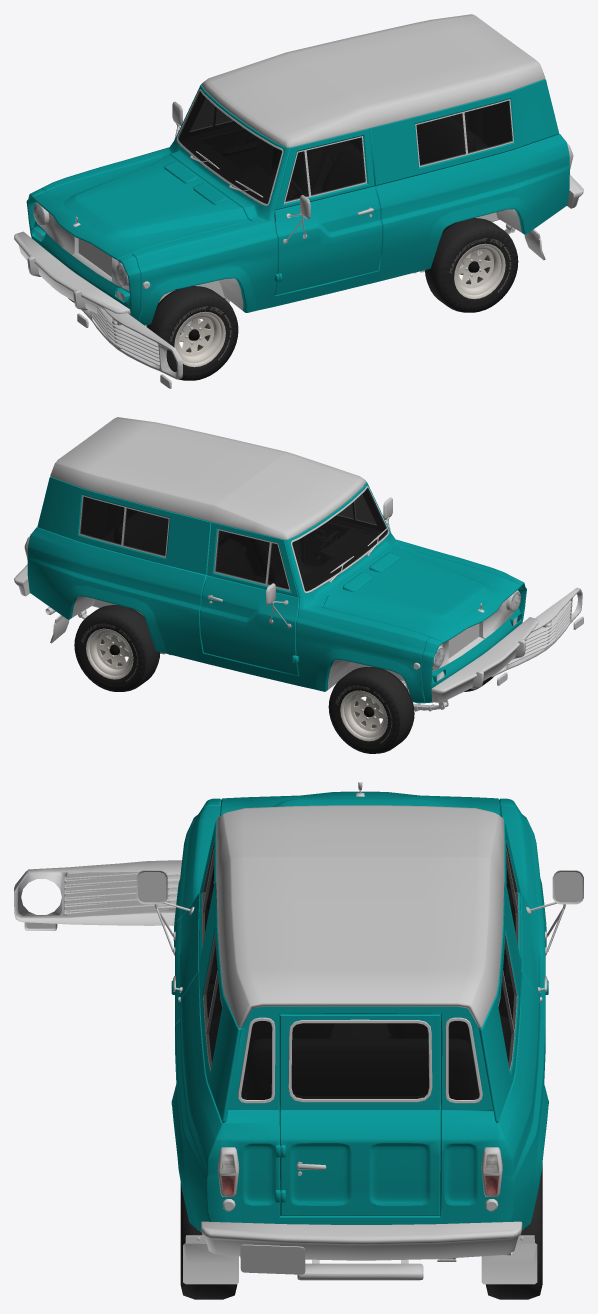
The model's file is SUV4.fbx.
The picture shows the model from 3 angles, top to bottom: view 1: azimuth 30°, elevation 25°; view 2: azimuth 150°, elevation 25°; view 3: azimuth 270°, elevation 25°; orthographic projection. The views are drawn at different scales.
Parts seen in each view (by area): view 1: Body, Roof, Hood, Door_Left, Wheel_RL, Wheel_FL, Windshield, Seats, Bodyglass, Door_Glass_FL, Grill, Bumper_Front (+12 smaller); view 2: Body, Roof, Hood, Door_Right, Wheel_FR, Wheel_RR, Windshield, Seats, Bodyglass, Door_Glass_FR, Bumper_Front, Plate_Front (+11 smaller); view 3: Roof, Body, rear_door, Seats, Bumper_rear, rear_door_glass, Grill, Bodyglass, Mudflaps, Hood, Body_trim, Door_Right (+9 smaller).
Part boxes in pixels (left/top/right/bottom): Body: left=37, top=79, right=569, bottom=325; Roof: left=201, top=14, right=545, bottom=147; Hood: left=33, top=155, right=249, bottom=260; Door_Left: left=274, top=128, right=382, bottom=295; Wheel_RL: left=425, top=218, right=518, bottom=312; Wheel_FL: left=146, top=286, right=238, bottom=380; Windshield: left=177, top=91, right=281, bottom=203; Seats: left=269, top=116, right=475, bottom=197; Bodyglass: left=416, top=100, right=512, bottom=165; Door_Glass_FL: left=285, top=137, right=365, bottom=201; Grill: left=77, top=306, right=182, bottom=388; Bumper_Front: left=14, top=231, right=130, bottom=314; Body: left=27, top=477, right=513, bottom=703; Roof: left=50, top=417, right=366, bottom=539; Hood: left=321, top=546, right=521, bottom=643; Door_Right: left=200, top=522, right=299, bottom=675; Wheel_FR: left=328, top=667, right=414, bottom=753; Wheel_RR: left=74, top=605, right=160, bottom=691; Windshield: left=292, top=487, right=388, bottom=591; Seats: left=114, top=511, right=318, bottom=588; Bodyglass: left=80, top=496, right=168, bottom=556; Door_Glass_FR: left=215, top=530, right=289, bottom=589; Bumper_Front: left=431, top=617, right=538, bottom=702; Plate_Front: left=422, top=577, right=526, bottom=702; Roof: left=216, top=805, right=504, bottom=1028; Body: left=171, top=805, right=548, bottom=1232; rear_door: left=279, top=1014, right=440, bottom=1215; Seats: left=241, top=1021, right=478, bottom=1099; Bumper_rear: left=201, top=1221, right=522, bottom=1274; rear_door_glass: left=291, top=1023, right=428, bottom=1098; Grill: left=14, top=860, right=181, bottom=931; Bodyglass: left=203, top=934, right=516, bottom=1099; Mudflaps: left=183, top=1235, right=537, bottom=1284; Hood: left=220, top=791, right=500, bottom=815; Body_trim: left=203, top=881, right=517, bottom=1211; Door_Right: left=504, top=820, right=548, bottom=1025.
Bounding box in the file's own units: 460 × 195 × 282.
